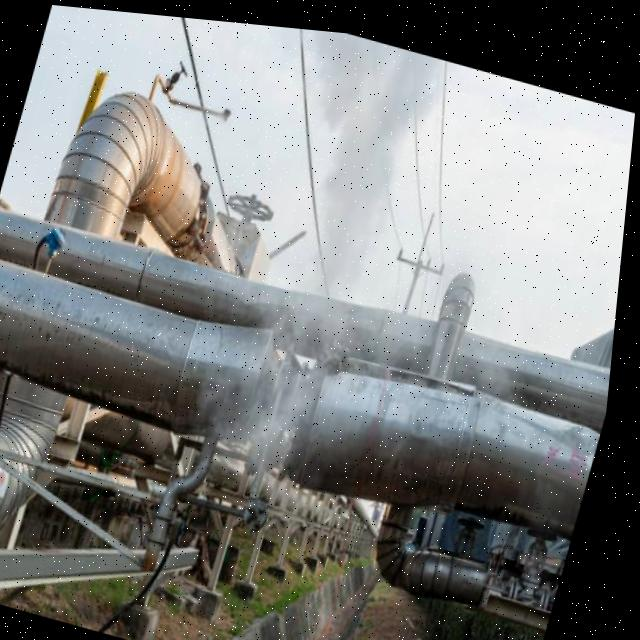corrosion: (244, 242, 436, 477)
